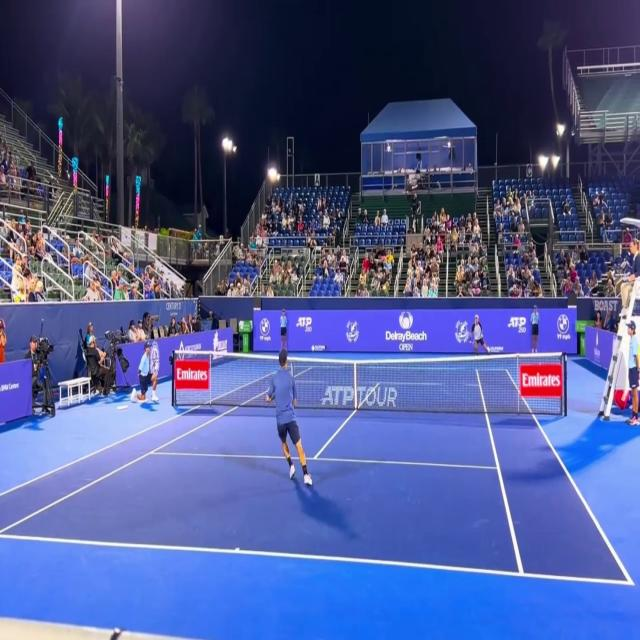tennisBall: (461, 322, 465, 336)
